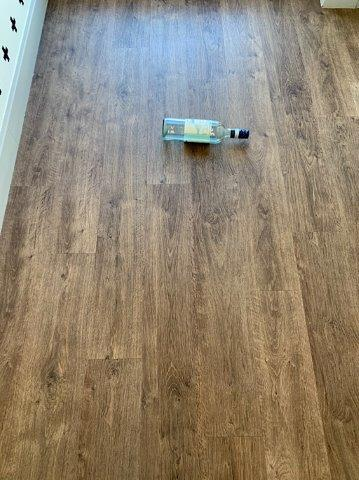botolkaca: (164, 118, 249, 143)
